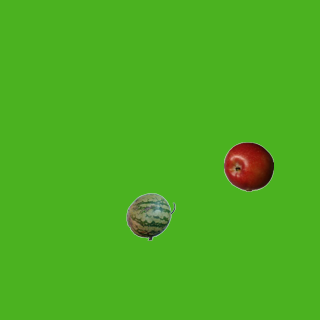Apple Braeburn: (223, 141, 273, 191)
Watermelon: (125, 191, 175, 241)
